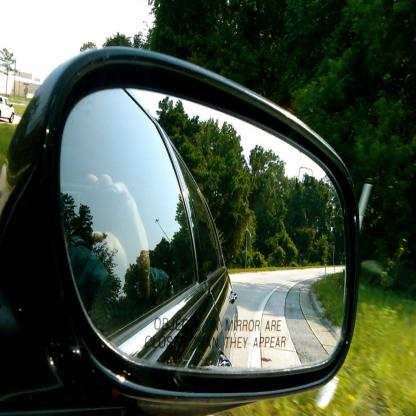Car: (0, 96, 15, 124)
